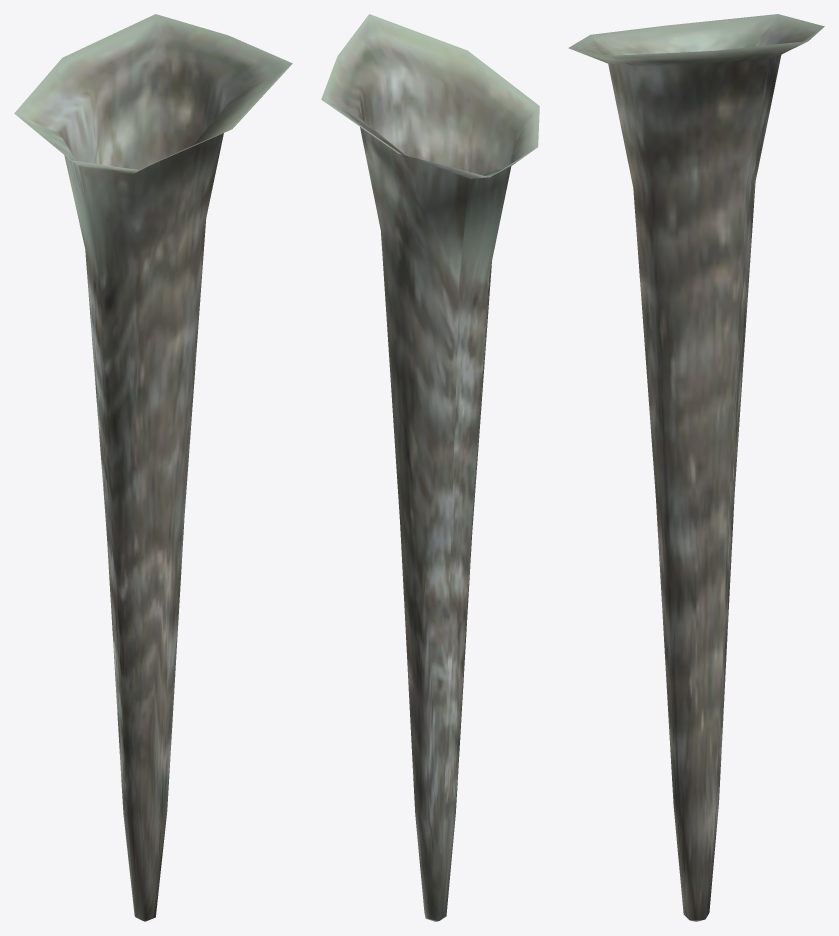
The model's file is TROLLHOLE02_PS-MAINSTALAG32.fbx.
The picture shows the model from 3 angles, left to right: view 1: azimuth 30°, elevation 25°; view 2: azimuth 150°, elevation 25°; view 3: azimuth 270°, elevation 25°; orthographic projection. The views are drawn at different scales.
Visible parts, largest first — view 1: TROLLHOLE02_PS-MAINSTALAG32; view 2: TROLLHOLE02_PS-MAINSTALAG32; view 3: TROLLHOLE02_PS-MAINSTALAG32.
Boxes of the visible parts, left/top/right/bottom form: TROLLHOLE02_PS-MAINSTALAG32: left=14, top=14, right=292, bottom=921; TROLLHOLE02_PS-MAINSTALAG32: left=321, top=14, right=539, bottom=921; TROLLHOLE02_PS-MAINSTALAG32: left=568, top=14, right=824, bottom=921.
Size of the model in its own units: 10845 by 44601 by 11260.
Materials: 1 (1 with a texture image).
